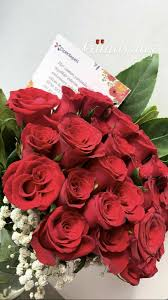lale: (0, 158, 64, 218), (33, 199, 92, 262), (7, 81, 60, 128), (129, 216, 168, 277), (51, 111, 99, 159), (17, 120, 65, 162), (57, 166, 96, 213), (86, 190, 124, 236), (94, 149, 131, 184), (50, 86, 88, 118), (143, 178, 168, 223), (106, 107, 139, 139), (138, 154, 165, 193)
